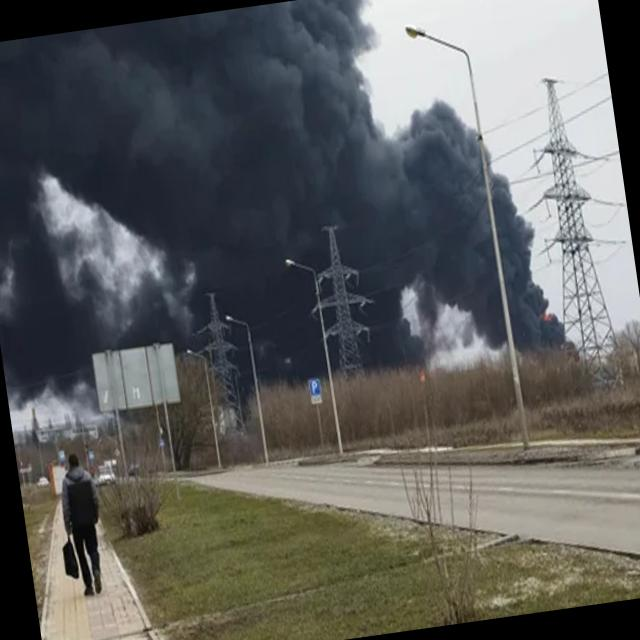Smoke: (0, 0, 577, 443)
